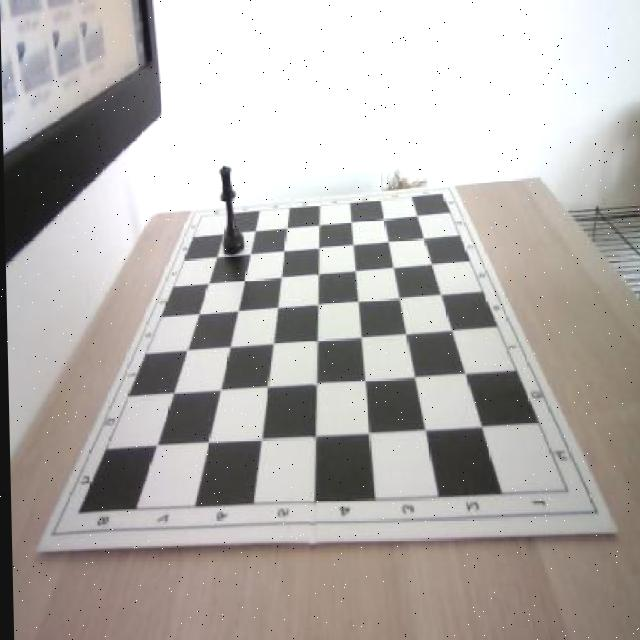black-pawn: (215, 165, 246, 257)
